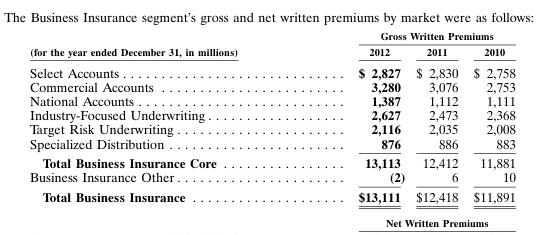table: (29, 29, 514, 203)
table column: (29, 29, 297, 203), (297, 29, 410, 203), (410, 29, 465, 203), (465, 29, 514, 203)
table column header: (29, 29, 514, 60)
table row: (29, 60, 514, 79), (29, 43, 514, 60), (29, 135, 514, 152), (29, 152, 514, 169), (29, 169, 514, 186), (29, 186, 514, 203), (29, 29, 514, 43), (29, 79, 514, 93), (29, 93, 514, 107), (29, 107, 514, 121), (29, 121, 514, 135)
table spanning cell: (29, 29, 297, 60), (297, 29, 514, 43)
